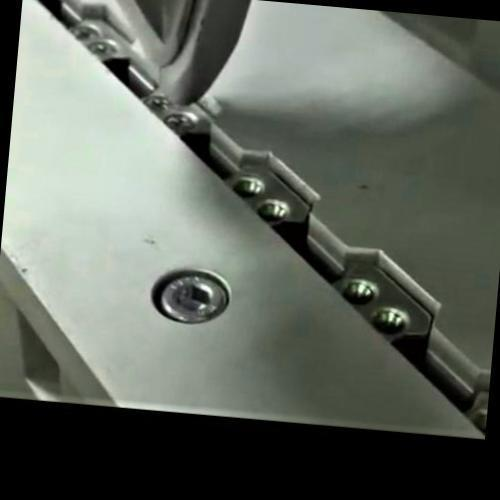hole: (364, 306, 412, 342), (336, 276, 378, 309), (252, 196, 290, 229), (228, 172, 266, 202)
